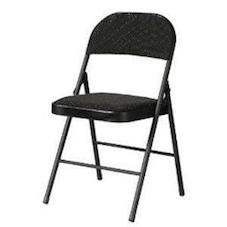chair: (28, 5, 198, 221)
